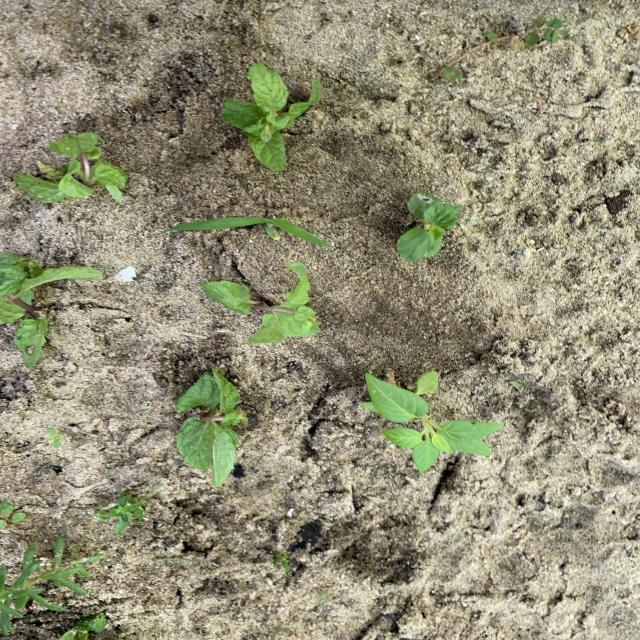crop: (1, 254, 102, 367), (223, 64, 322, 170), (203, 263, 319, 343), (176, 370, 247, 483), (13, 134, 127, 202), (398, 193, 460, 260)
weed: (361, 373, 503, 471), (0, 544, 89, 635), (166, 217, 330, 247), (96, 493, 145, 535), (526, 16, 568, 45), (1, 502, 26, 527), (273, 551, 290, 573), (48, 427, 64, 447), (54, 538, 64, 566), (319, 588, 331, 601), (510, 380, 523, 388)
